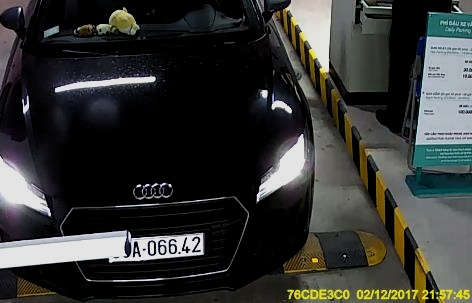plate: (131, 236, 203, 260)
